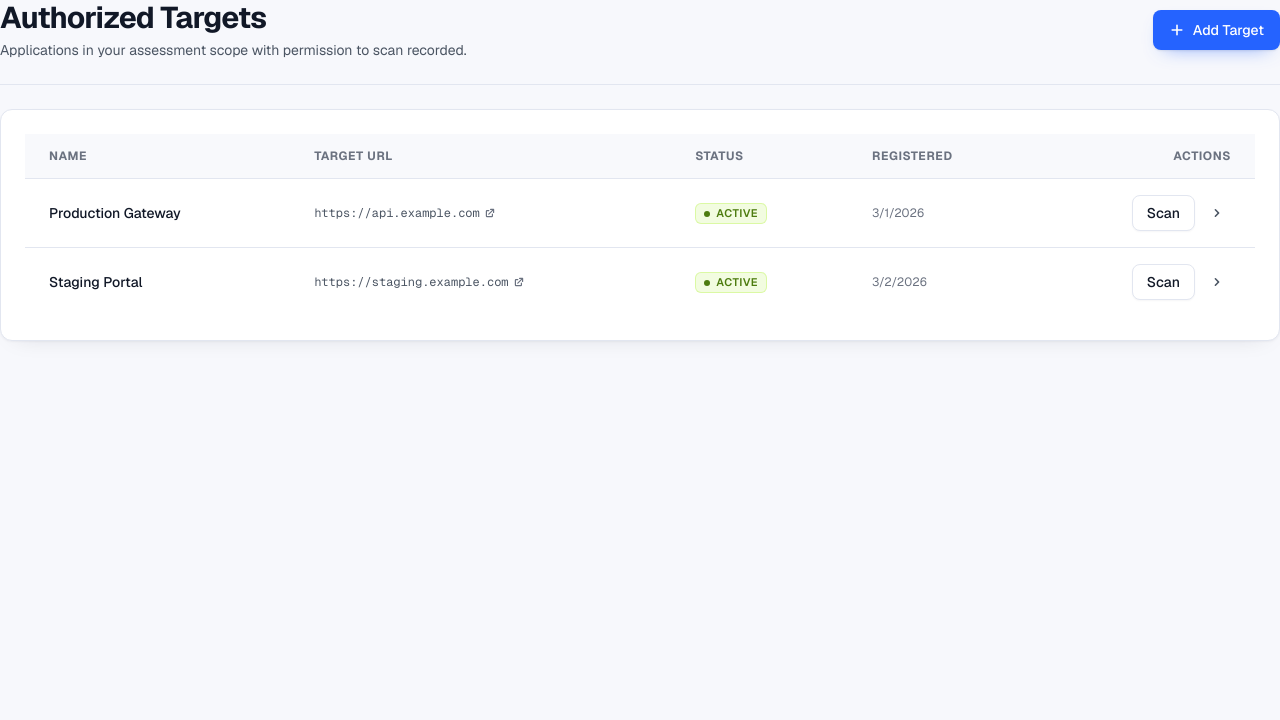
Test: Targets Management Flow › creates a new target and refreshes list
The image size is (1280, 720).
Expected: the link "Production Gateway" is shown, [49, 204, 181, 222]
Click the button "Add Target" at coordinates (1216, 30), box [1153, 10, 1279, 50]
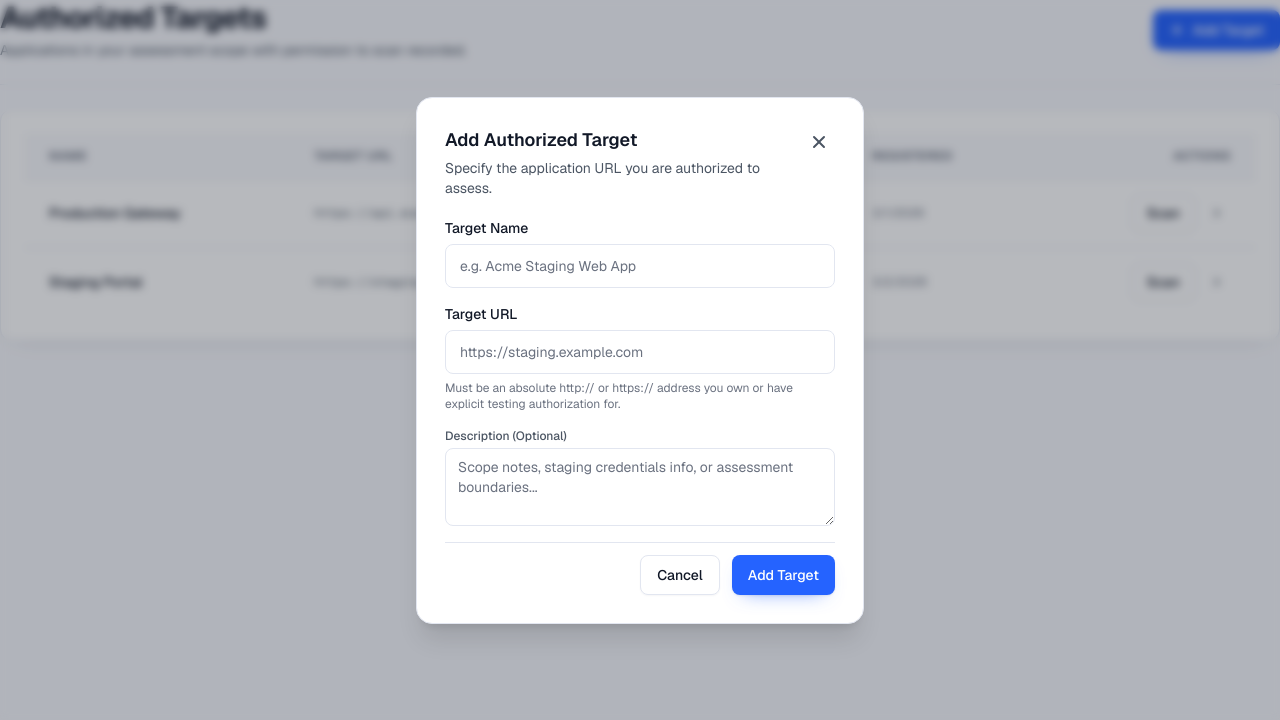
Result: the dialog is shown
Type "New Microservice" into the field labelled "Target Name" at coordinates (640, 266), box [445, 244, 835, 288]
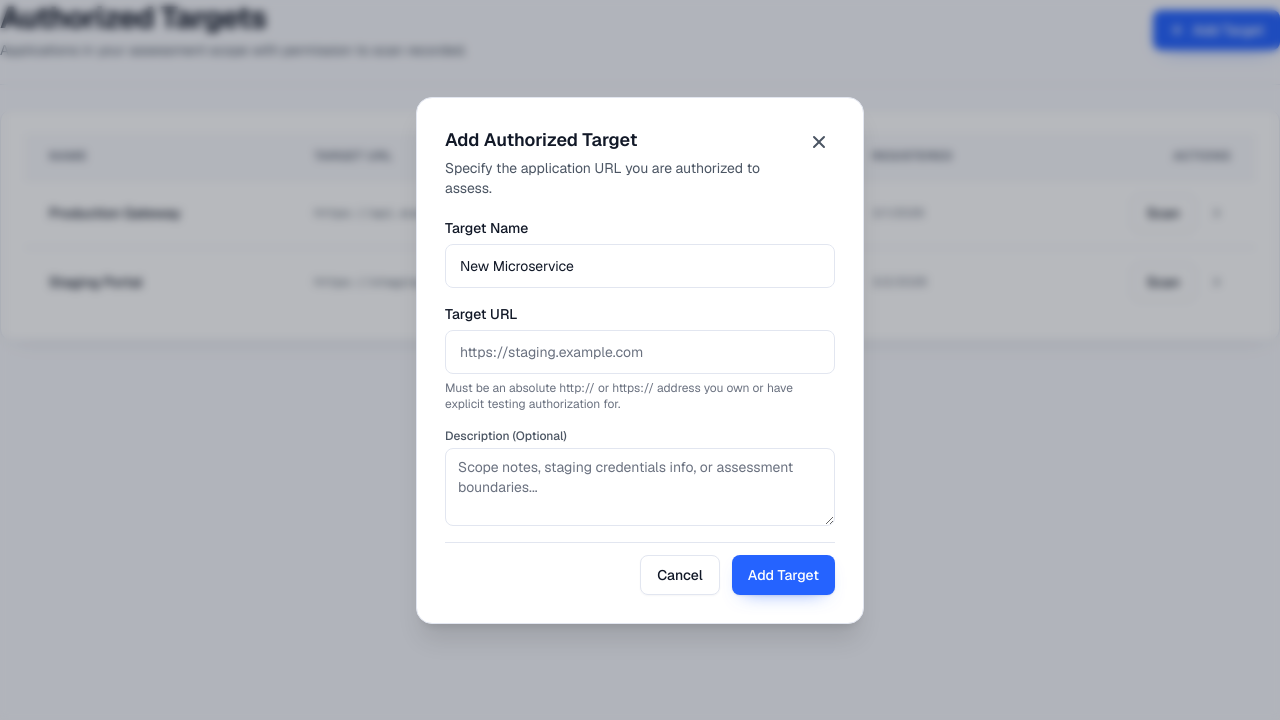
Type "https://auth.example.com" into the field labelled "Target URL" at coordinates (640, 352), box [445, 330, 835, 374]
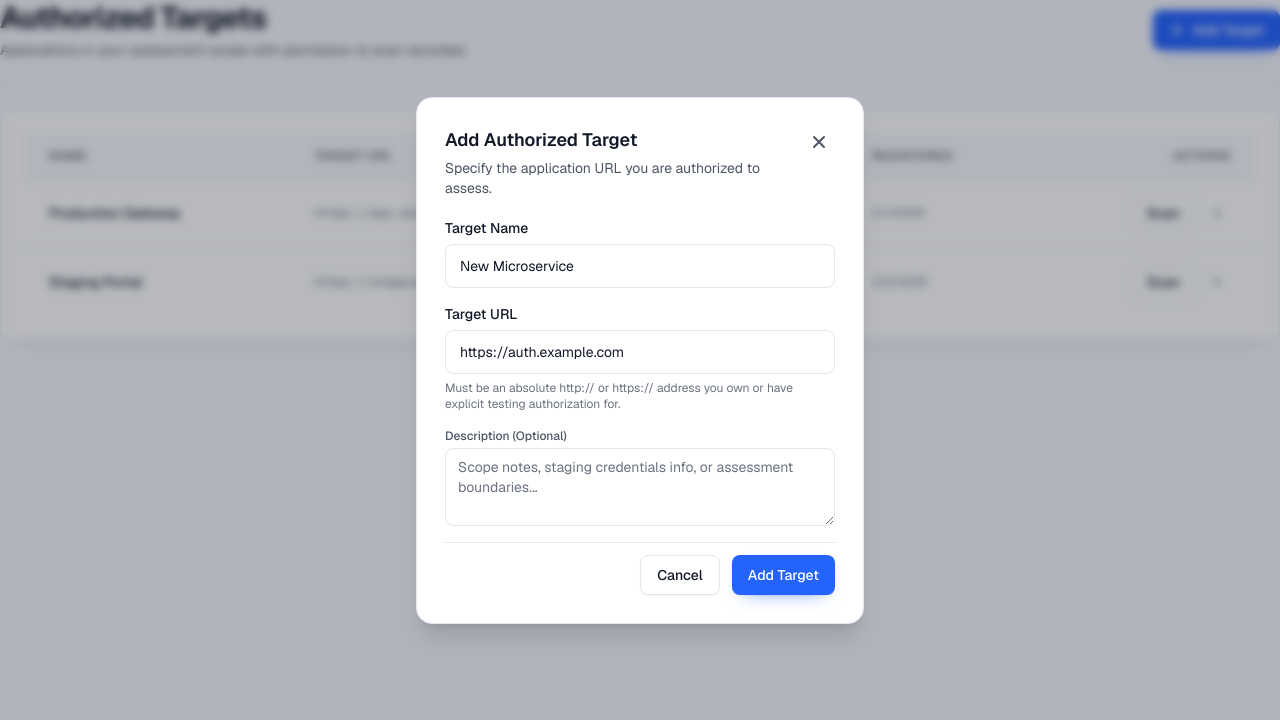
Click the button "Add Target" at coordinates (783, 574), box [732, 554, 835, 594]
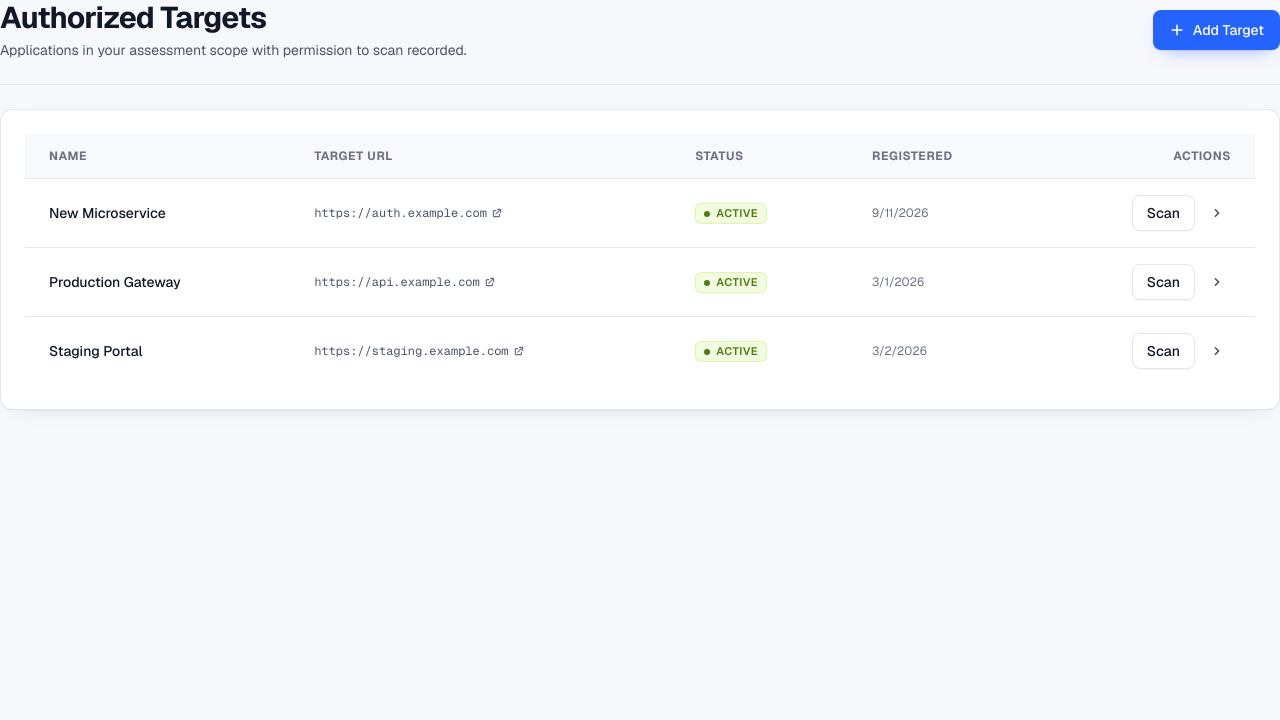
Result: the link "New Microservice" is shown at [49, 204, 166, 222]
